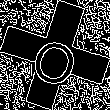O_N: (27, 24, 83, 86)
